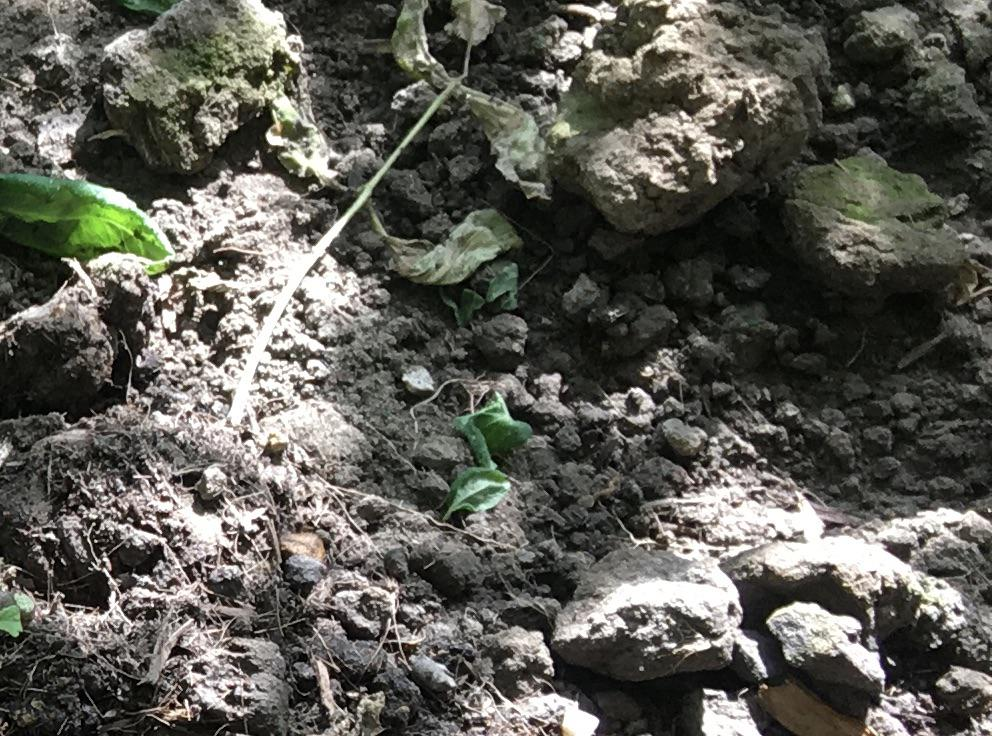block: (561, 4, 839, 237), (105, 1, 282, 170), (784, 147, 969, 293), (549, 545, 737, 684), (724, 529, 927, 636), (764, 597, 892, 702)
